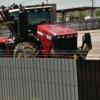Tractor: (4, 0, 93, 62)
